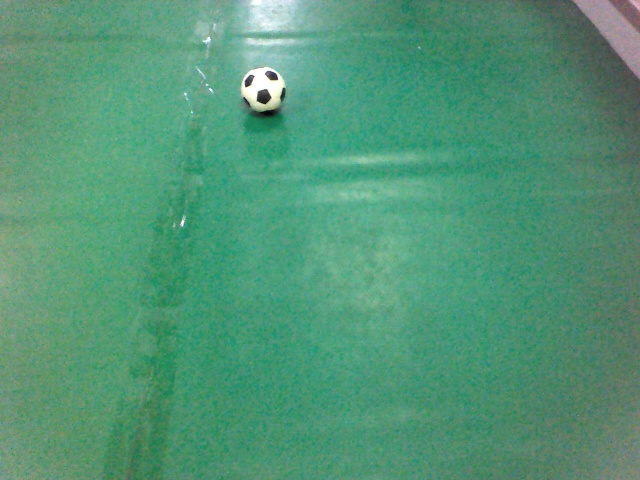ball: (237, 64, 289, 115)
